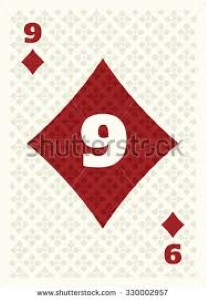NineOfDiamonds: (5, 9, 197, 276)
